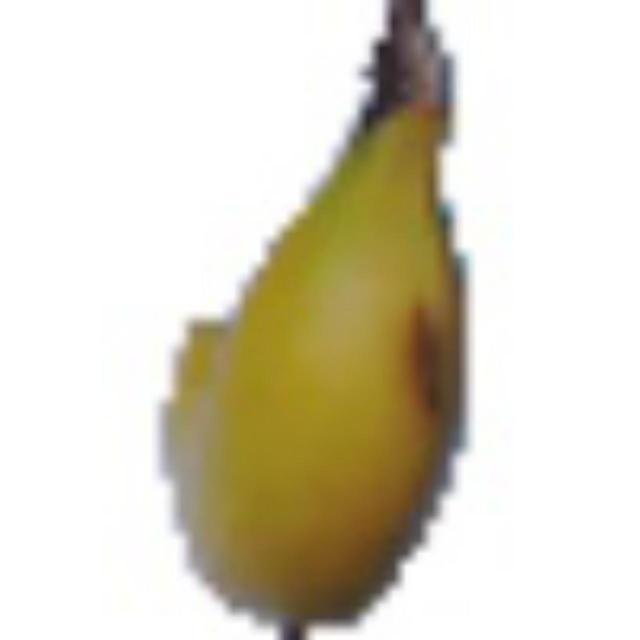banana: (157, 3, 470, 640)
